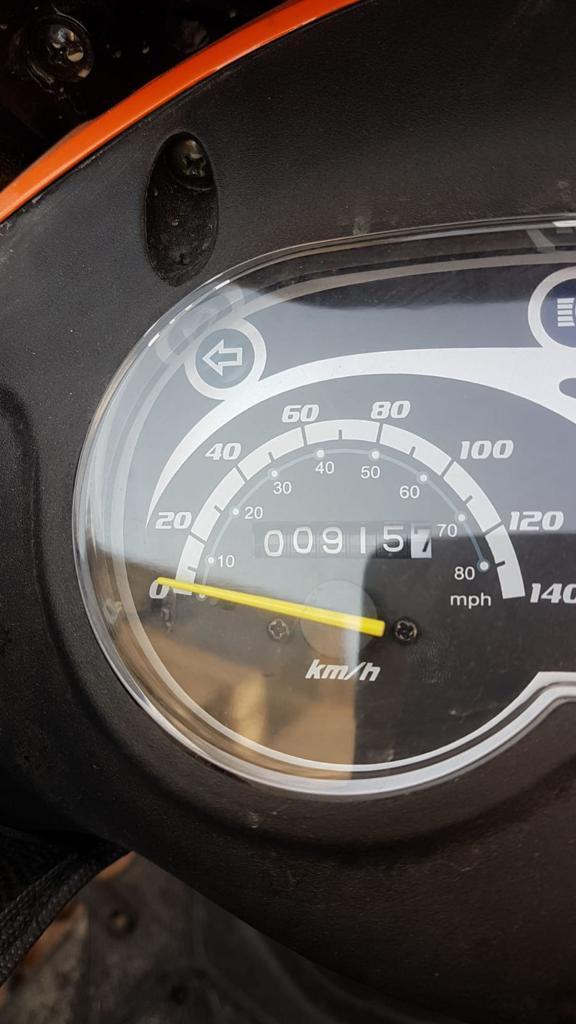0: (292, 525, 313, 554), (263, 528, 283, 557)
1: (358, 525, 367, 554)
5: (381, 524, 404, 553)
7: (414, 524, 433, 552)
9: (321, 525, 343, 554)
odometer: (255, 517, 434, 562)
